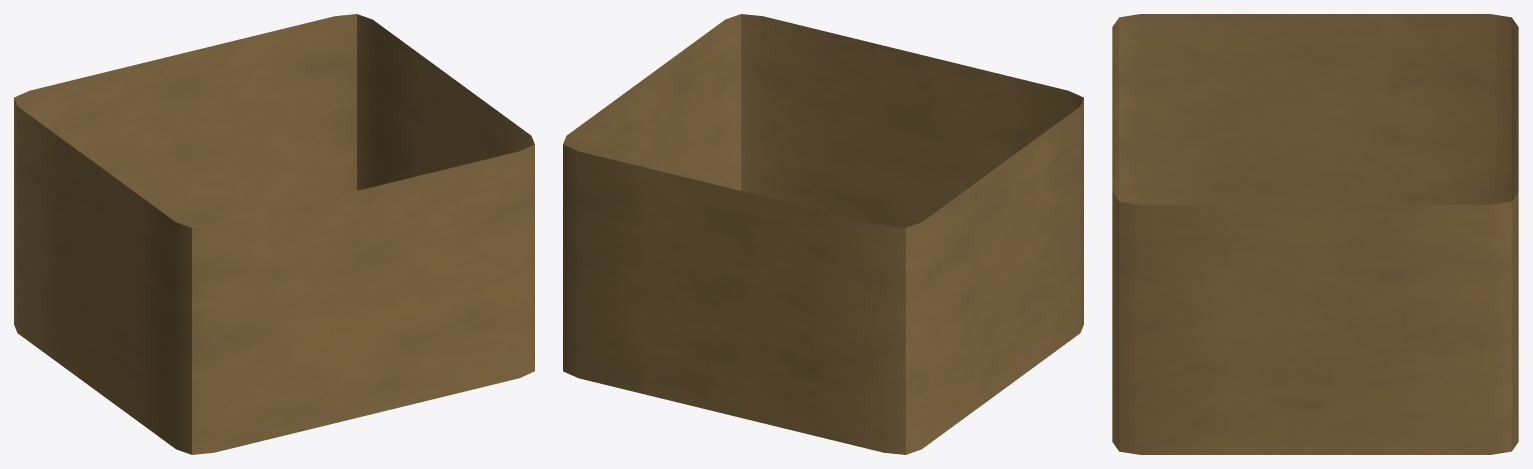
File: PlatformTall Wide HEIGHT MID EXT.fbx
3 renders of one model, left to right at view 1: azimuth 30°, elevation 25°; view 2: azimuth 150°, elevation 25°; view 3: azimuth 270°, elevation 25°, orthographic. The views are drawn at different scales.
Parts seen in each view (by area): view 1: PlatformTall Wide HEIGHT MID EXT; view 2: PlatformTall Wide HEIGHT MID EXT; view 3: PlatformTall Wide HEIGHT MID EXT.
Boxes of the visible parts, x1=… form: PlatformTall Wide HEIGHT MID EXT: x1=14, y1=14, x2=534, y2=454; PlatformTall Wide HEIGHT MID EXT: x1=563, y1=14, x2=1083, y2=454; PlatformTall Wide HEIGHT MID EXT: x1=1112, y1=14, x2=1518, y2=454.
Size of the model in its own units: 60.28 by 54.25 by 36.8.
